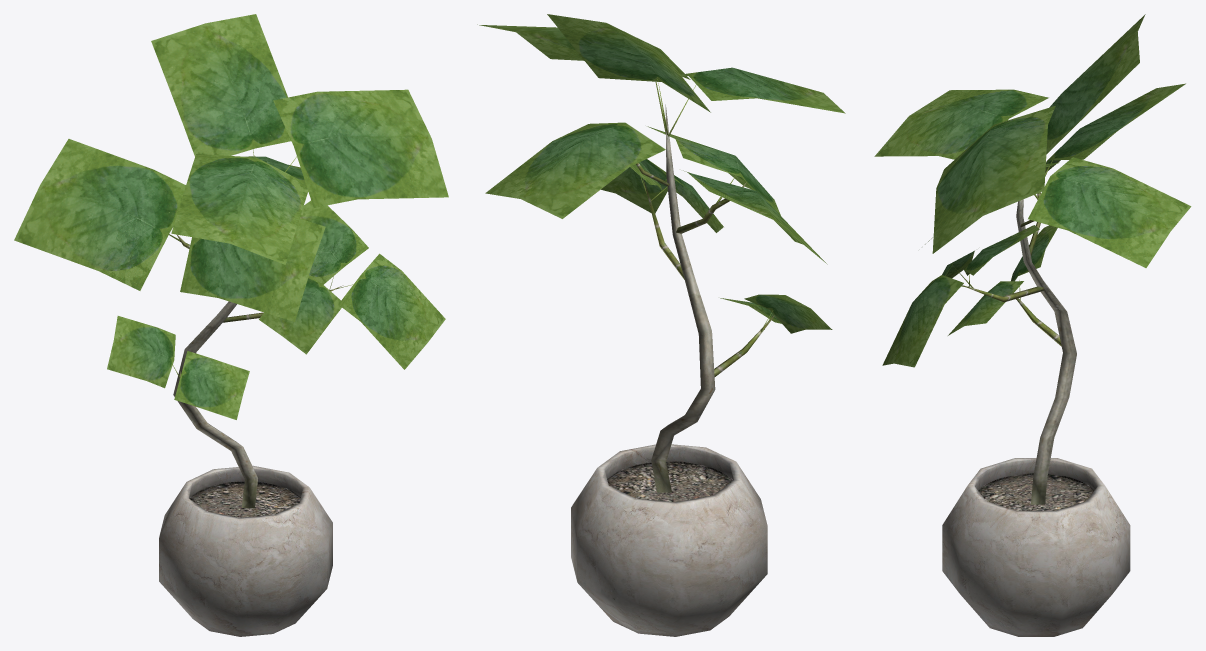
The model's file is Furniture_foliageplant_06_LOD1.fbx.
3 views of the same model, side by side, from view 1: azimuth 30°, elevation 25°; view 2: azimuth 150°, elevation 25°; view 3: azimuth 270°, elevation 25° (orthographic). The views are drawn at different scales.
Visible parts, largest first — view 1: F_foliageplant_06_m1, F_foliageplant_06_m; view 2: F_foliageplant_06_m, F_foliageplant_06_m1; view 3: F_foliageplant_06_m1, F_foliageplant_06_m.
Boxes of the visible parts, x1,y1,x2,y2 form: F_foliageplant_06_m1: (14, 14, 448, 419); F_foliageplant_06_m: (159, 234, 343, 636); F_foliageplant_06_m: (571, 104, 774, 636); F_foliageplant_06_m1: (477, 14, 845, 333); F_foliageplant_06_m1: (874, 14, 1191, 367); F_foliageplant_06_m: (942, 192, 1130, 636).
Bounding box in the file's own units: 0.5248 × 0.7884 × 0.3867.
Materials: 2 (2 with a texture image).
